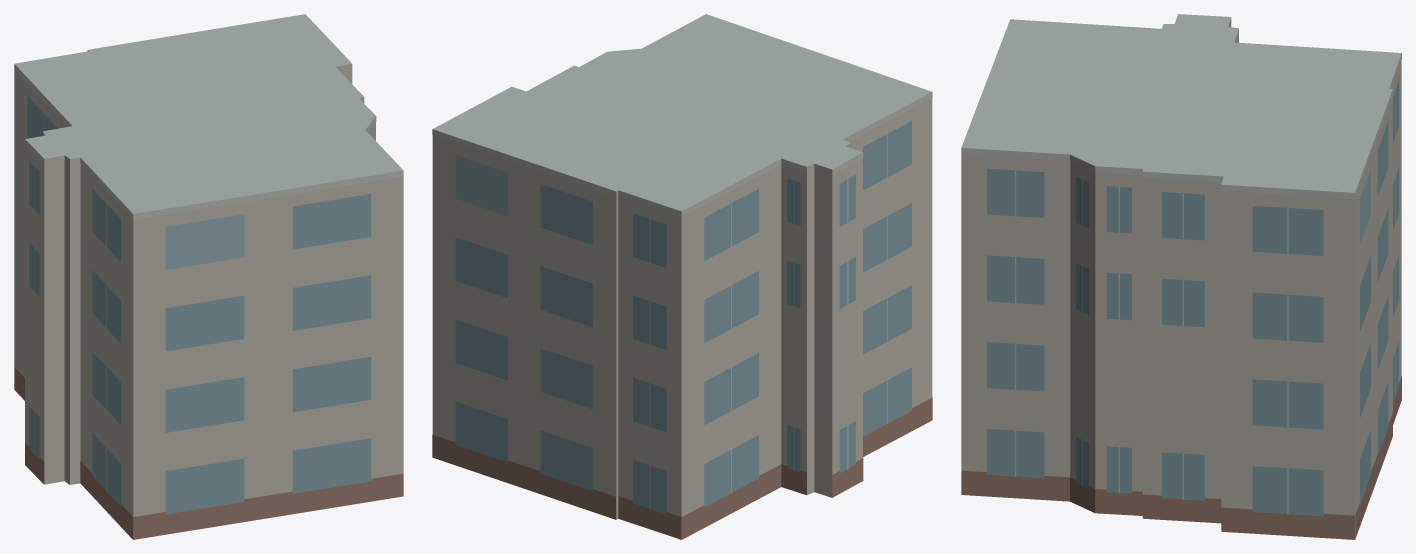
The model's file is survey-upis-32683886.glb.
3 renders of one model, left to right at view 1: azimuth 30°, elevation 25°; view 2: azimuth 150°, elevation 25°; view 3: azimuth 270°, elevation 25°, orthographic. The views are drawn at different scales.
Parts seen in each view (by area): view 1: survey-upis-32683886.tmp; view 2: survey-upis-32683886.tmp; view 3: survey-upis-32683886.tmp.
Part boxes in pixels (<box>): survey-upis-32683886.tmp: <box>14,14,403,539</box>; survey-upis-32683886.tmp: <box>432,14,932,539</box>; survey-upis-32683886.tmp: <box>961,14,1401,539</box>.
Size of the model in its own units: 15.49 by 14 by 16.12.
